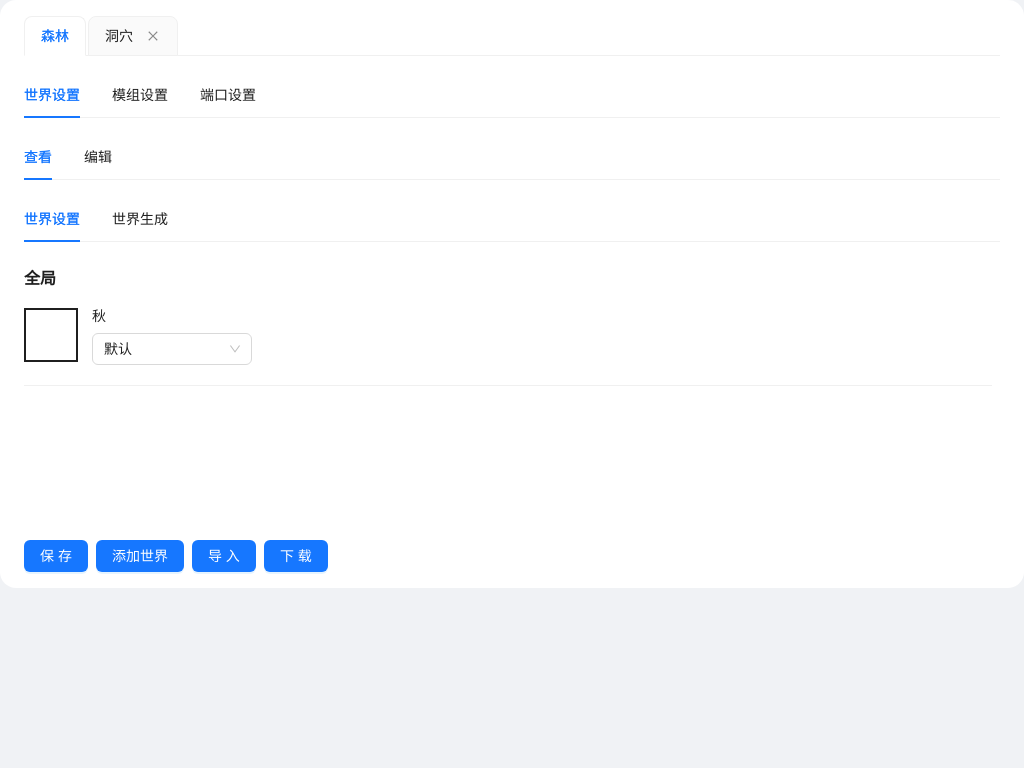
Test: world task pages › renders port settings in compact grouped sections
Check: the tab "森林" is shown, box [41,25,69,47]
Click the tab "端口设置": click(228, 95) [200,84,256,106]
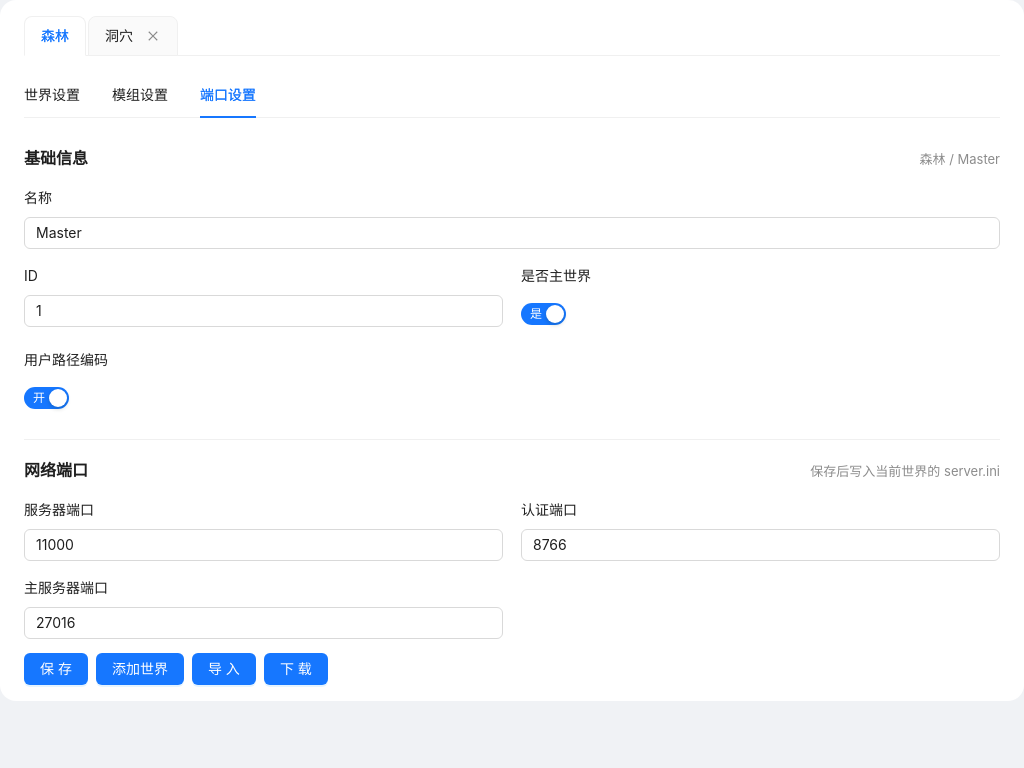
Check: the heading "基础信息" is shown, box [24,146,88,171]
Check: the heading "网络端口" is shown, box [24,458,88,483]
Check: the text "名称" is shown, box [24,187,66,209]
